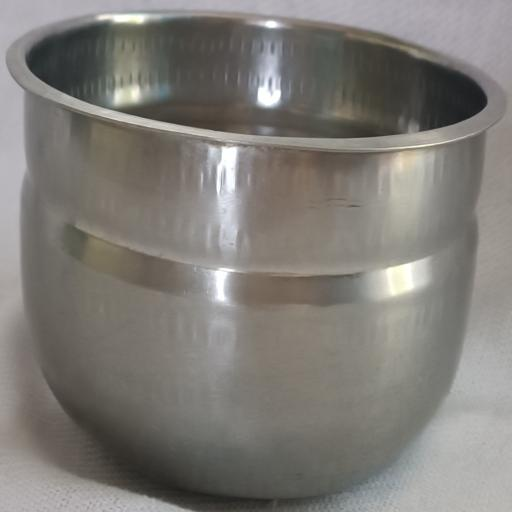vessel: (8, 13, 504, 497)
